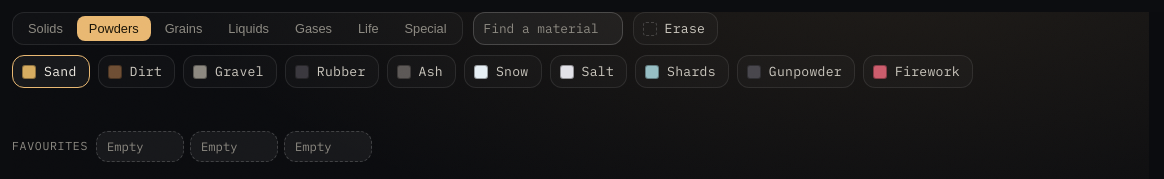
Test: Palette › searches across every group, not just the open one
Type "chlor" into the search field named "Search materials" at x=548, y=28, box [472,12,622,45]
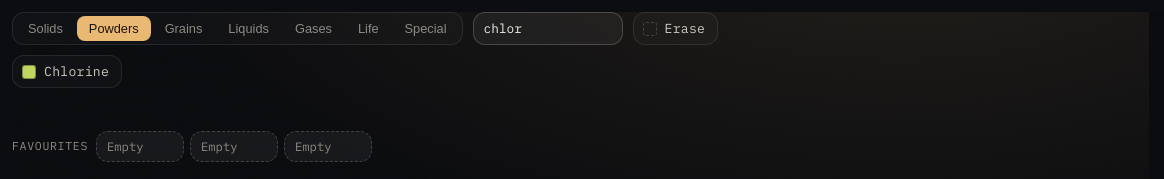
Expected: the button "Chlorine" is shown, [12,55,122,88]
Expected: the button "Gravel" is gone
